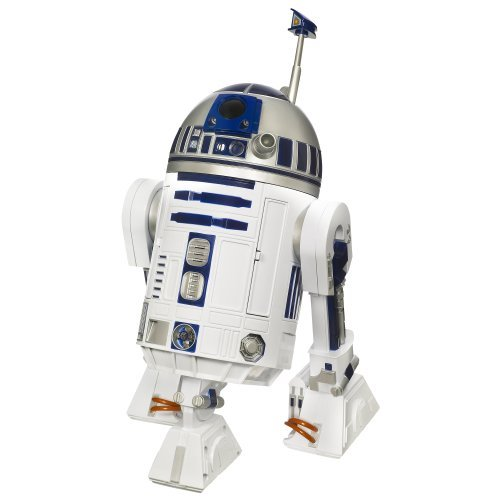r2d2: (124, 82, 379, 492)
